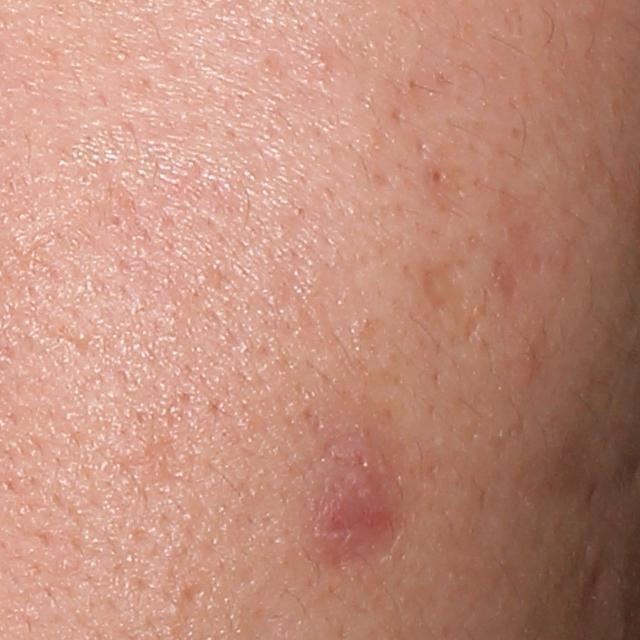atrophic_scar: (567, 541, 618, 640), (416, 258, 470, 312), (490, 257, 524, 306)
comedo: (425, 164, 448, 188)
papule: (323, 471, 395, 557)
